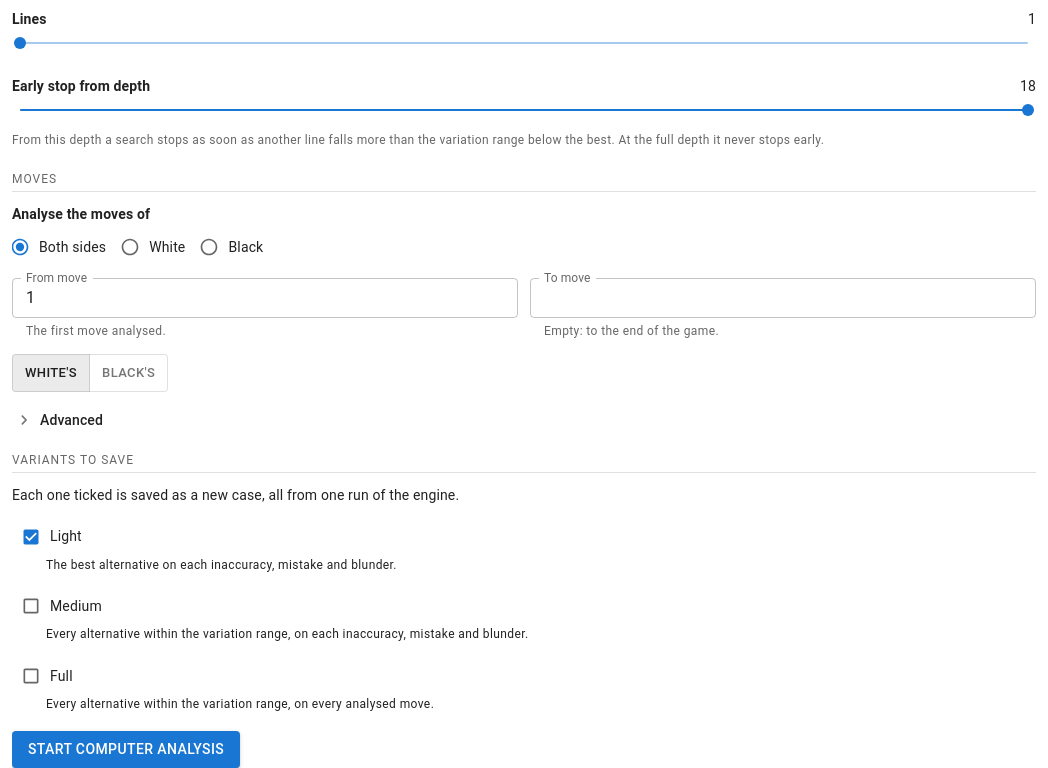
Scenario: ComputerAnalysisForm (CTA-174) › keeps the thresholds and the variation range under Advanced, collapsed
This screenshot has width=1048, height=768.
(page scrolled)
expect the slider labelled "Blunder above" is not shown: met
Click the button named "Advanced options" at (24, 420), box [12,408,36,432]
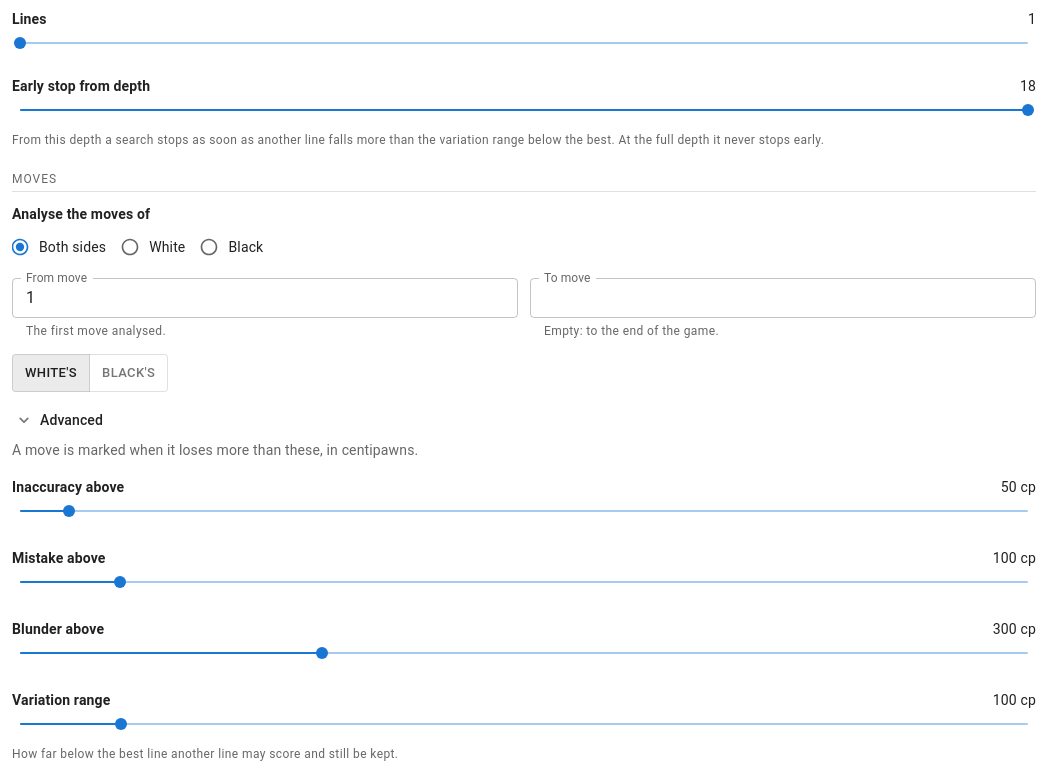
expect the button named "Advanced options" is expanded: met, box [12,408,36,432]
expect the slider labelled "Inaccuracy above" is shown: met, box [63,504,75,516]
expect the slider labelled "Mistake above" is shown: met, box [114,576,126,588]
